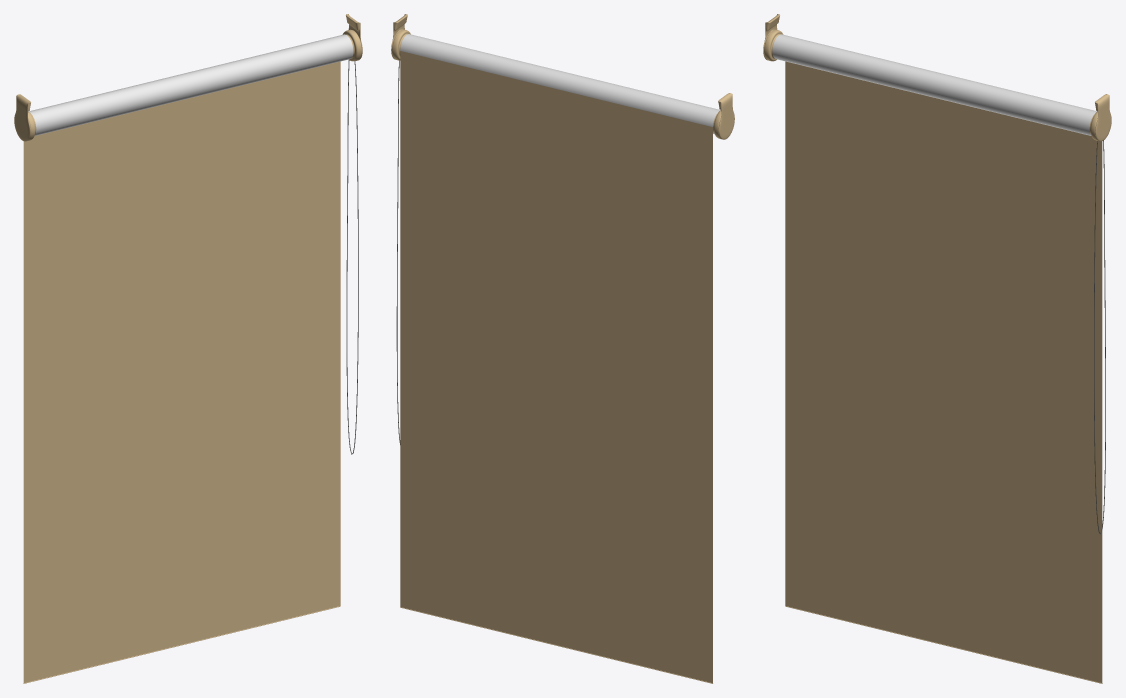
The model's file is roller.fbx.
The picture shows the model from 3 angles, left to right: view 1: azimuth 30°, elevation 25°; view 2: azimuth 150°, elevation 25°; view 3: azimuth 330°, elevation 25°; orthographic projection.
Parts seen in each view (by area): view 1: Panel, Roller, String, Side.L; view 2: Panel, Roller, Side.L; view 3: Panel, Roller, String, Side.R.
Part boxes in pixels (x1,y1,x2,y2): Panel: [23, 61, 340, 682]; Roller: [28, 34, 353, 135]; String: [346, 60, 358, 454]; Side.L: [14, 94, 36, 141]; Panel: [400, 51, 712, 683]; Roller: [400, 34, 720, 134]; Side.L: [713, 93, 734, 139]; Panel: [785, 61, 1102, 682]; Roller: [772, 34, 1096, 135]; String: [1094, 140, 1105, 534]; Side.R: [1089, 94, 1111, 141].
Bounding box in the file's own units: 105 × 178 × 8.72.
